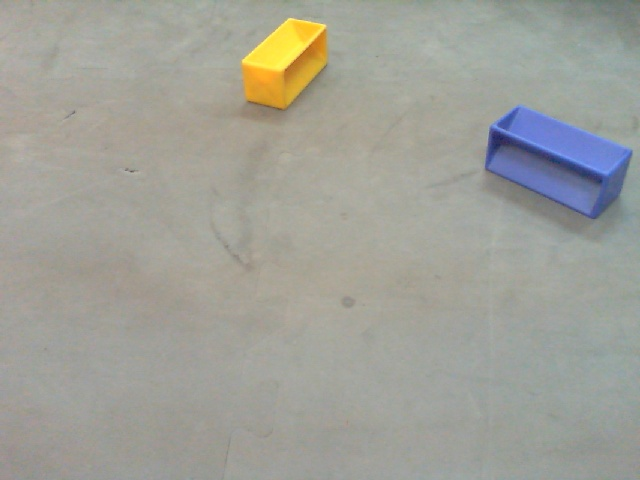BlueSample: (482, 102, 634, 223)
YellowSample: (238, 17, 329, 115)
